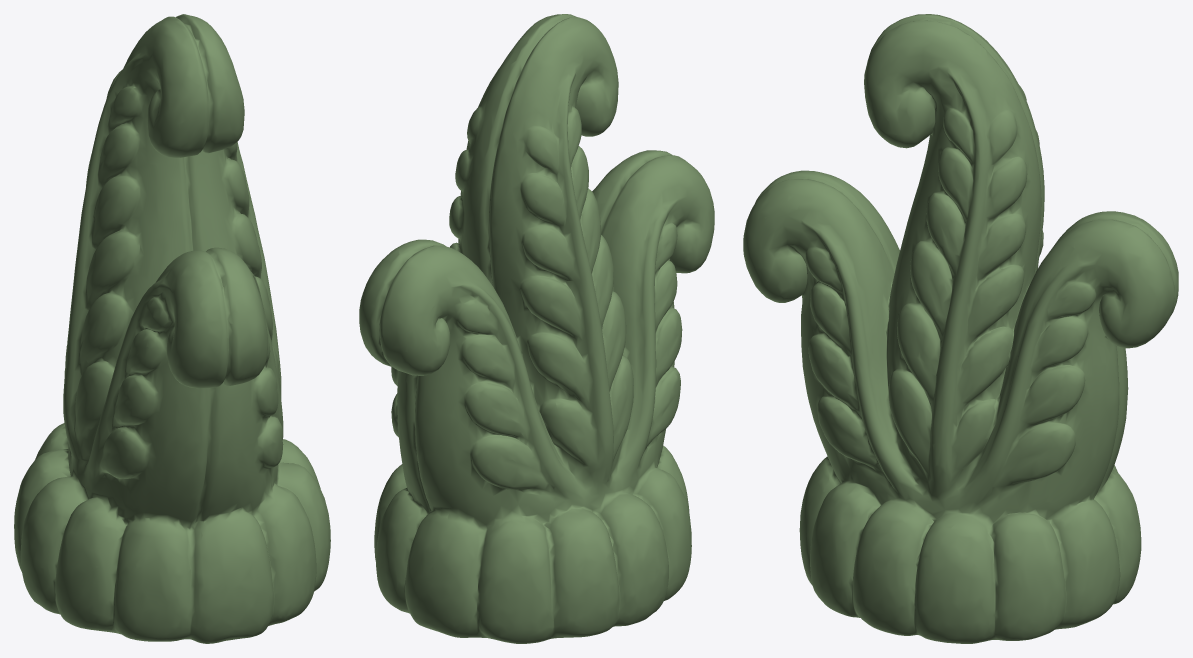
The model's file is fern-sprout.glb.
The picture shows the model from 3 angles, left to right: view 1: azimuth 30°, elevation 25°; view 2: azimuth 150°, elevation 25°; view 3: azimuth 270°, elevation 25°; orthographic projection. The views are drawn at different scales.
Visible parts, largest first — view 1: tripo_printable_source; view 2: tripo_printable_source; view 3: tripo_printable_source.
Part boxes in pixels (bbox=[...]): tripo_printable_source: bbox=[14, 14, 330, 643]; tripo_printable_source: bbox=[359, 14, 714, 643]; tripo_printable_source: bbox=[743, 14, 1178, 643].
Bounding box in the file's own units: 50.26 × 100 × 70.
